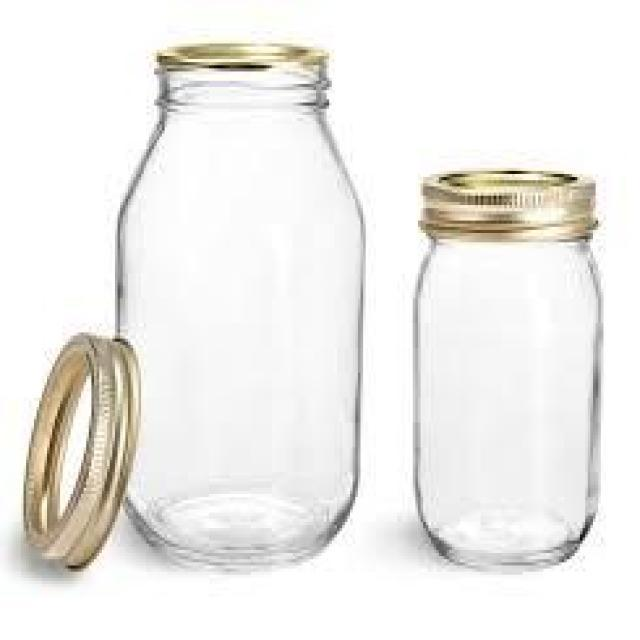Glass: (112, 39, 368, 578), (410, 164, 606, 575)
